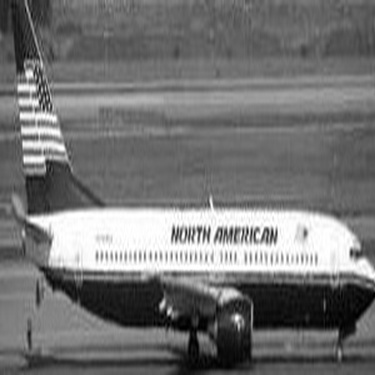airplane: (1, 5, 359, 352)
